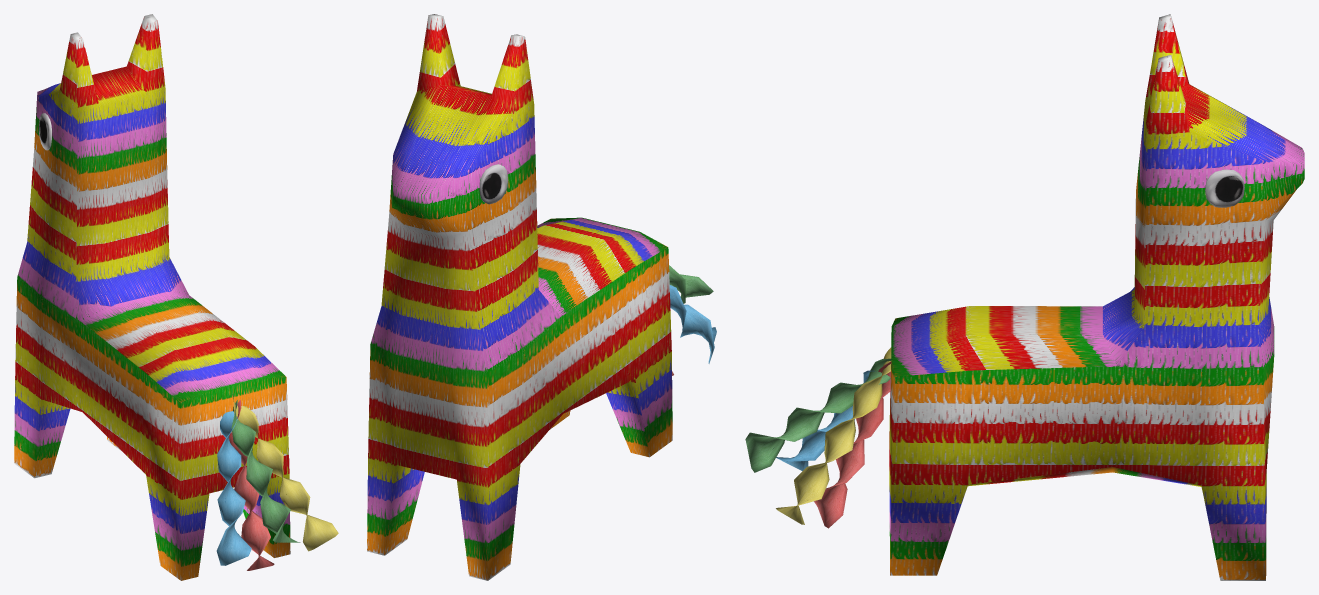
File: Animal.fbx
3 renders of one model, left to right at view 1: azimuth 30°, elevation 25°; view 2: azimuth 150°, elevation 25°; view 3: azimuth 270°, elevation 25°, orthographic. The views are drawn at different scales.
Visible parts, largest first — view 1: Plane.002; view 2: Plane.002; view 3: Plane.002.
Boxes of the visible parts, x1,y1,x2,y2 form: Plane.002: (14, 14, 338, 580); Plane.002: (367, 14, 716, 580); Plane.002: (745, 14, 1304, 580).
Bounding box in the file's own units: 0.4869 × 1.87 × 1.84.
6 materials, 6 textured.
